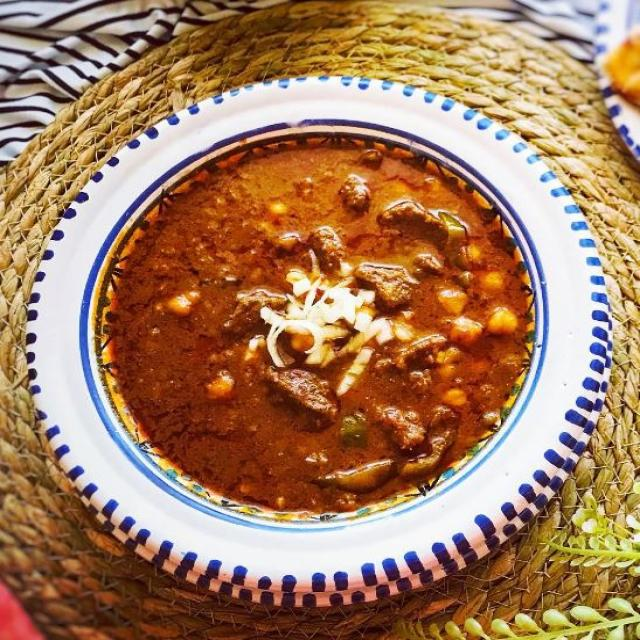kamouniya: (138, 125, 552, 497)
